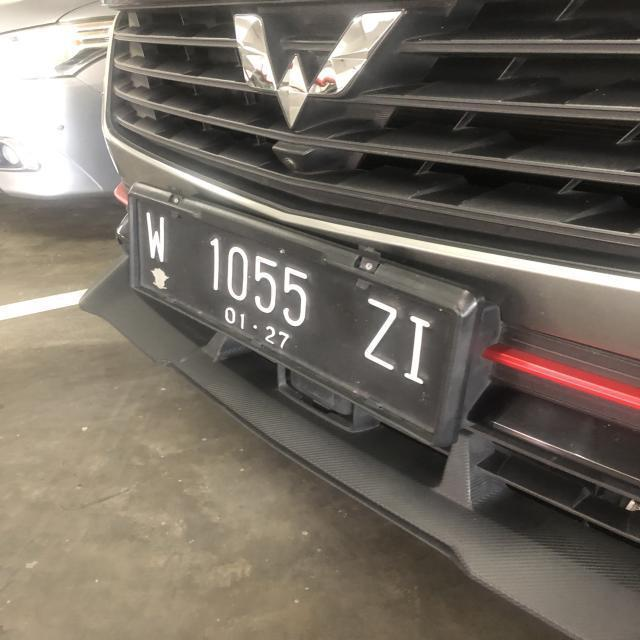0: (226, 244, 250, 303)
1: (203, 233, 226, 296)
5: (282, 260, 312, 330), (253, 255, 280, 319)
I: (402, 312, 434, 388)
W: (140, 212, 170, 266)
Z: (359, 294, 406, 380)
